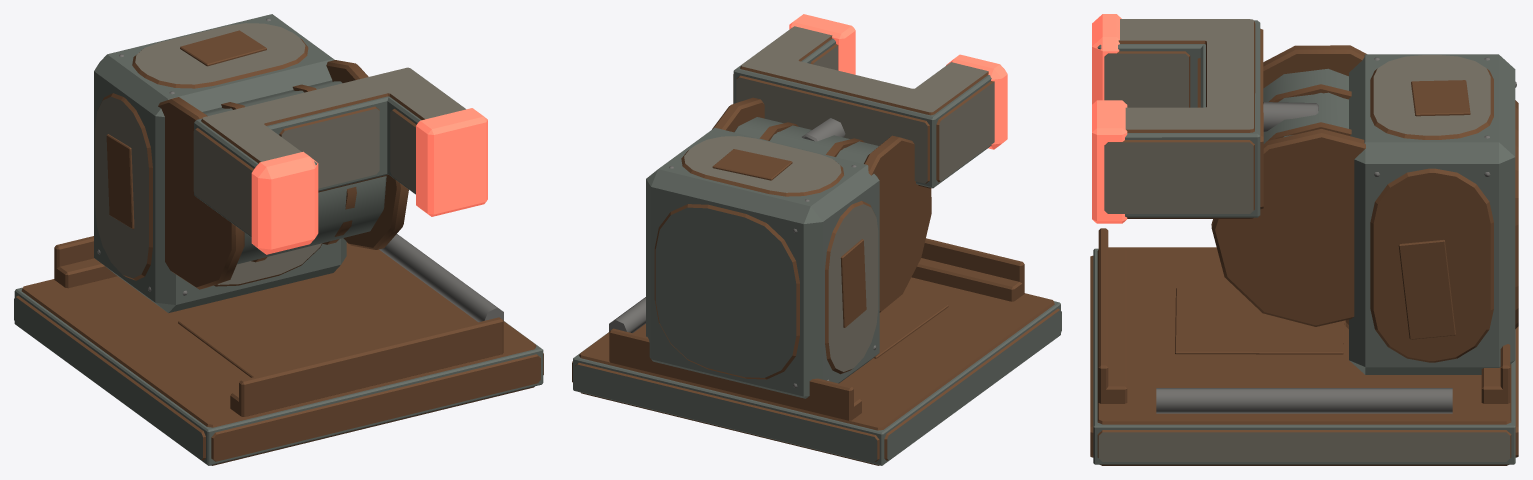
Rendered from R4X_MagneticGrapple.fbx.
3 views of the same model, side by side, from view 1: azimuth 30°, elevation 25°; view 2: azimuth 150°, elevation 25°; view 3: azimuth 270°, elevation 25° (orthographic). The views are drawn at different scales.
Parts seen in each view (by area): view 1: R4X_MagneticGrapple_Body; view 2: R4X_MagneticGrapple_Body; view 3: R4X_MagneticGrapple_Body.
Part boxes in pixels (<box>): R4X_MagneticGrapple_Body: <box>14,14,543,465</box>; R4X_MagneticGrapple_Body: <box>572,14,1061,465</box>; R4X_MagneticGrapple_Body: <box>1090,14,1518,465</box>.
Bounding box in the file's own units: 0.52 × 0.414 × 0.52.
